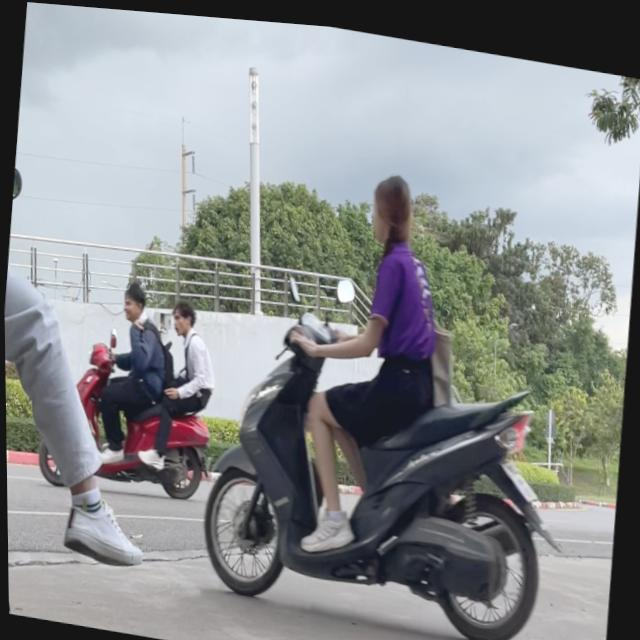seatbelt: (366, 162, 417, 242), (120, 277, 147, 321), (169, 296, 198, 336)
